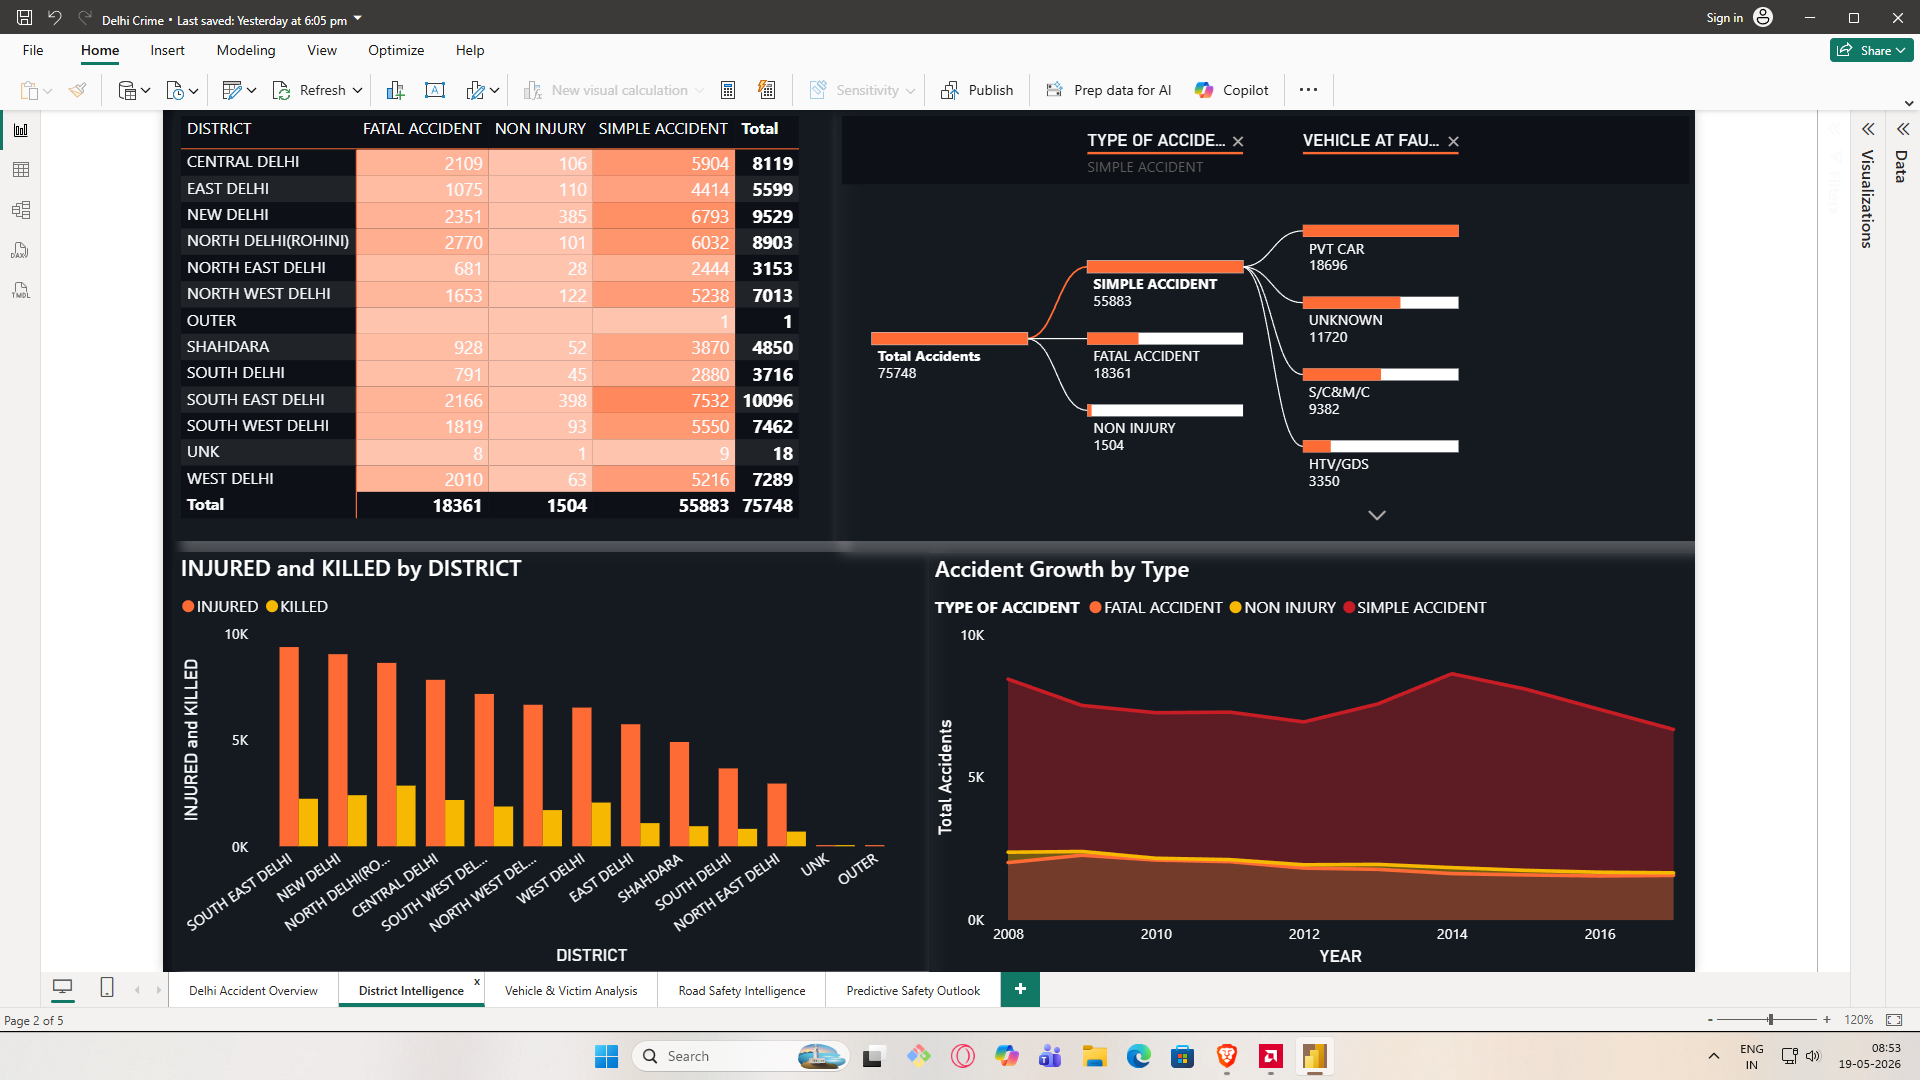

The dashboard page shown, as its layout file describes it:
{"tool":"powerbi","page":{"name":"District Intelligence","canvas":[1280,720],"ordinal":1},"visuals":[{"type":"pivotTable","title":"Heatmap","fields":{"Rows":["Data.DISTRICT"],"Columns":["Data.TYPE OF ACCIDENT"],"Values":["Data.Total Accidents"]},"box":[9.7,0,552.5,359.9],"z":0},{"type":"clusteredColumnChart","fields":{"Category":["Data.DISTRICT"],"Y":["Sum(Data.INJURED)","Sum(Data.KILLED)"]},"box":[9.7,369.6,630.3,350.2],"z":1000},{"type":"stackedAreaChart","title":"Accident Growth by Type","fields":{"Category":["Data.YEAR"],"Y":["Data.Total Accidents"],"Series":["Data.TYPE OF ACCIDENT"]},"box":[640,370,640,350],"z":2000},{"type":"decompositionTreeVisual","fields":{"Analyze":["Data.Total Accidents"],"ExplainBy":["Data.TYPE OF ACCIDENT","Data.VEHICLE AT FAULT"]},"box":[562.2,0,717.8,359.9],"z":3000}]}

Visuals, with their boxes on the page's 1280x720 design canvas (x1, y1, x2, y2). These are canvas units, not pixel positions in the 1920x1080 screenshot, which may show the page scaled, cropped or inside an application window:
"Heatmap" pivotTable: region(10, 0, 562, 360)
clusteredColumnChart - Data.DISTRICT x Sum(Data.INJURED): region(10, 370, 640, 720)
"Accident Growth by Type" stackedAreaChart: region(640, 370, 1280, 720)
decompositionTreeVisual - Data.Total Accidents x Data.TYPE OF ACCIDENT: region(562, 0, 1280, 360)
